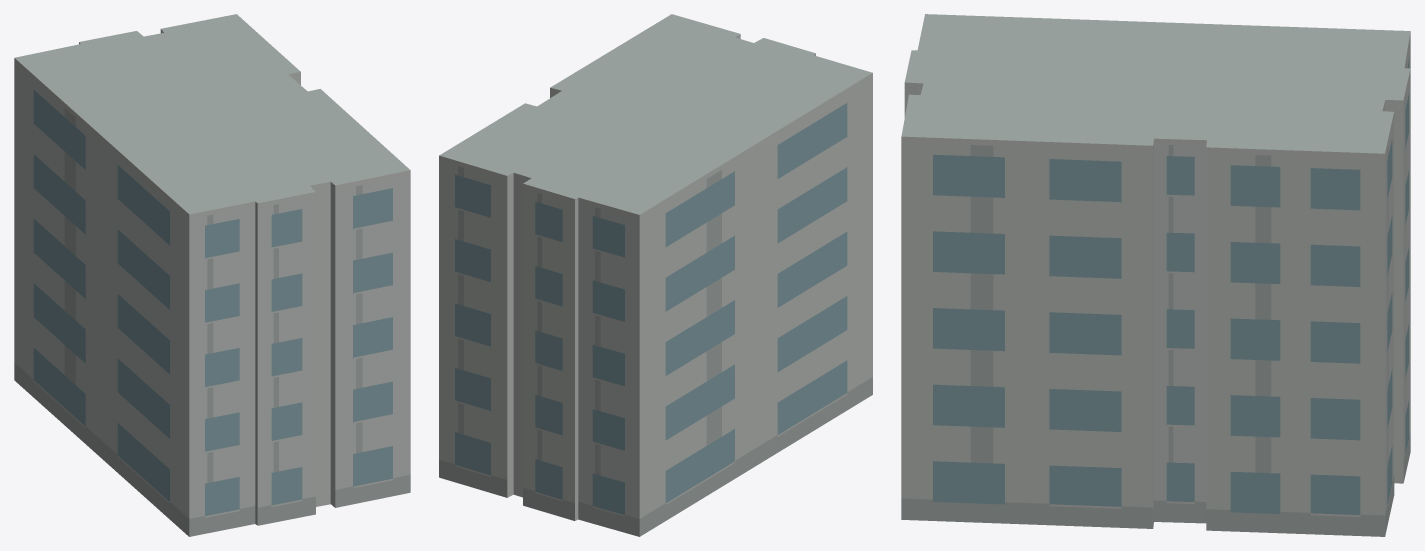
The model's file is survey-upis-32541036.glb.
The picture shows the model from 3 angles, left to right: view 1: azimuth 30°, elevation 25°; view 2: azimuth 150°, elevation 25°; view 3: azimuth 270°, elevation 25°; orthographic projection. The views are drawn at different scales.
Parts seen in each view (by area): view 1: survey-upis-32541036.tmp; view 2: survey-upis-32541036.tmp; view 3: survey-upis-32541036.tmp.
Boxes of the visible parts, <box> form: survey-upis-32541036.tmp: <box>14,14,410,536</box>; survey-upis-32541036.tmp: <box>439,14,872,536</box>; survey-upis-32541036.tmp: <box>901,14,1410,536</box>.
Size of the model in its own units: 12.44 by 15.9 by 19.16.
